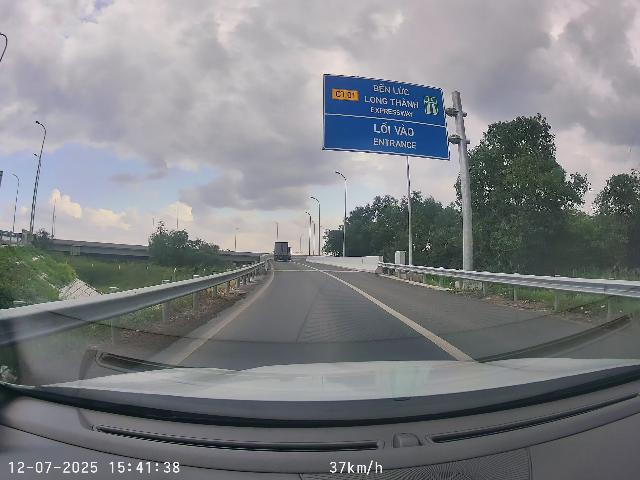437-bat-dau-duong-cao-toc: (423, 95, 439, 116)
